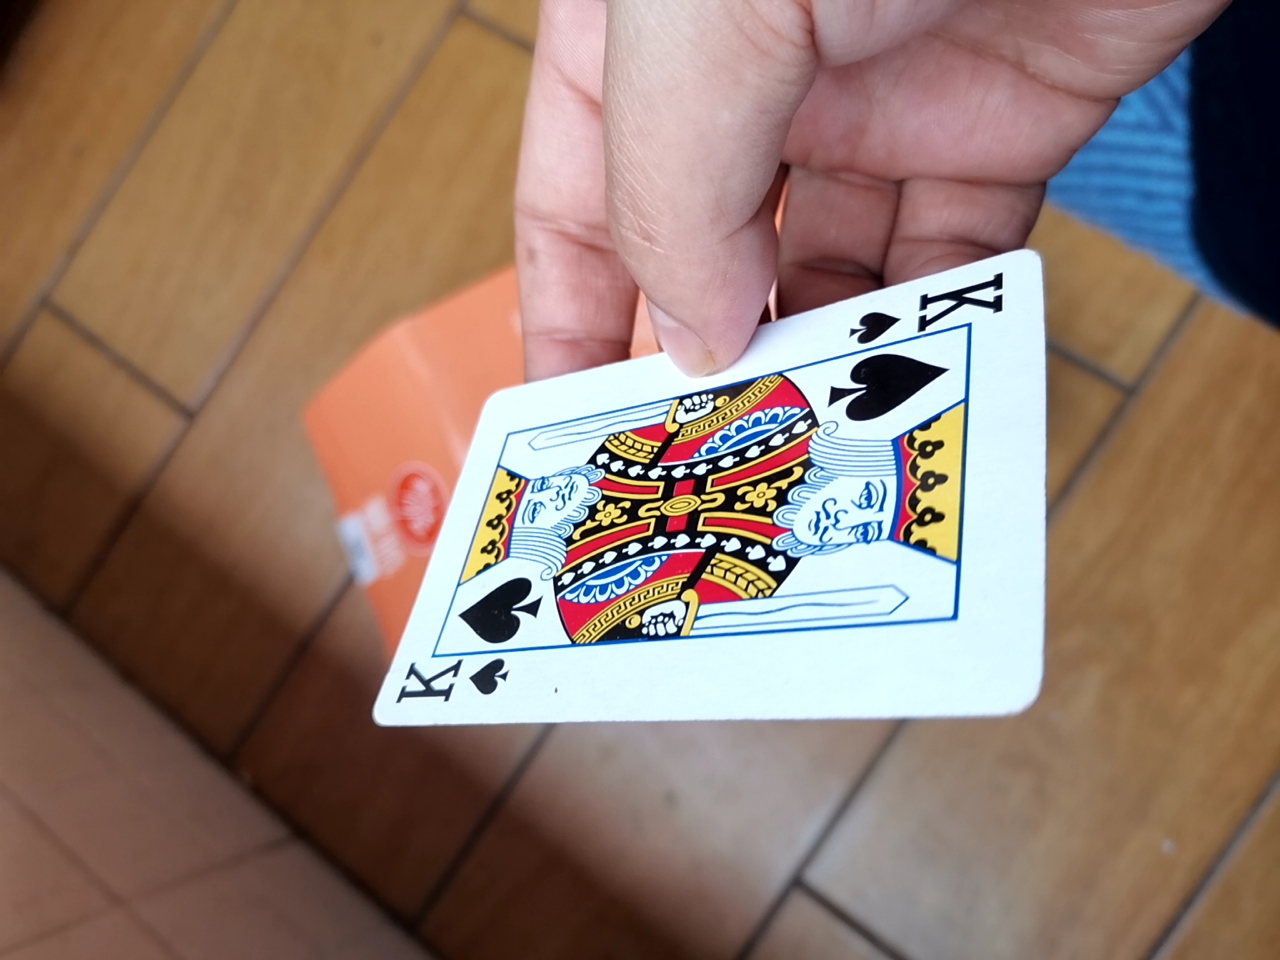ht k: (344, 262, 1037, 744)
